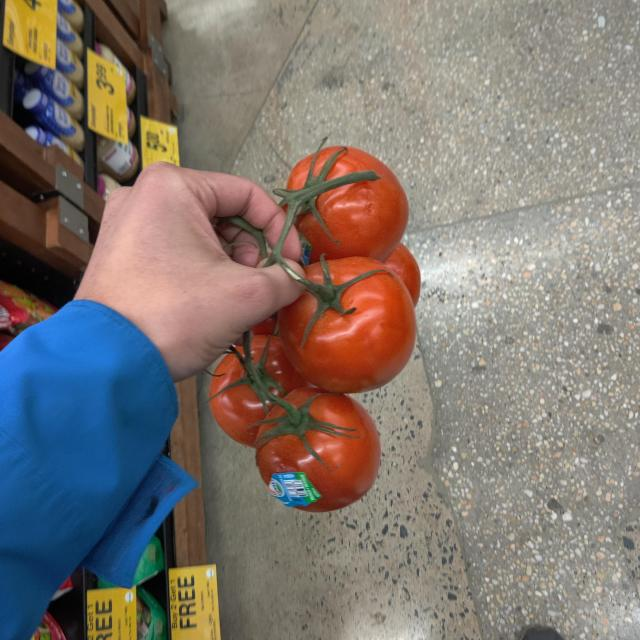Tomatoes: (212, 145, 419, 514)
